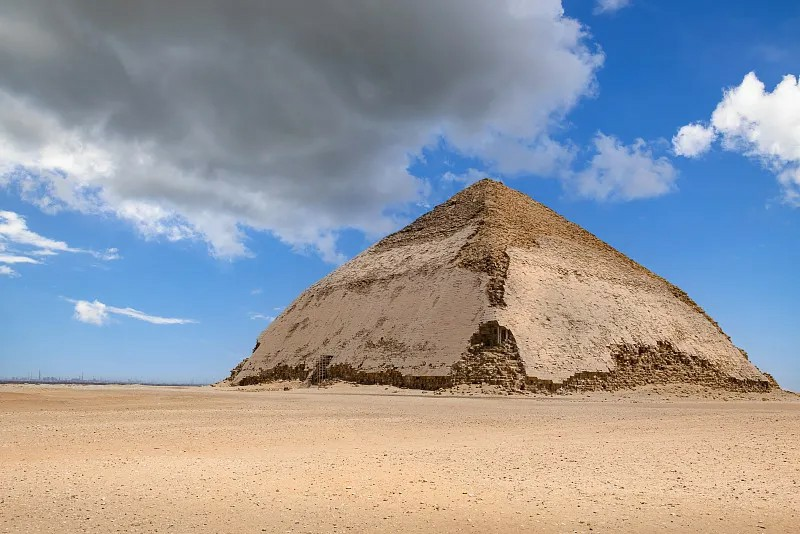Pyramid: (223, 177, 782, 395)
